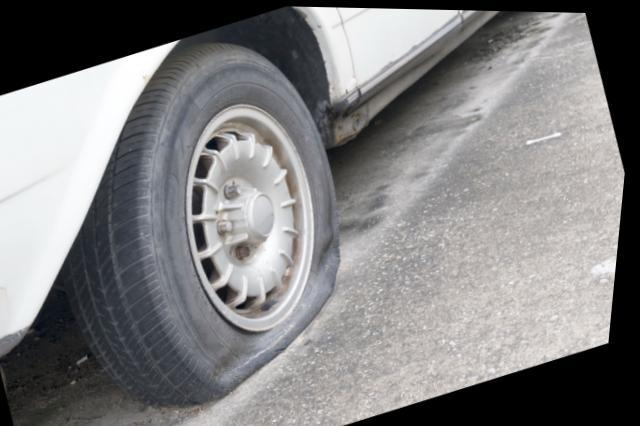tire flat: (67, 40, 345, 409)
